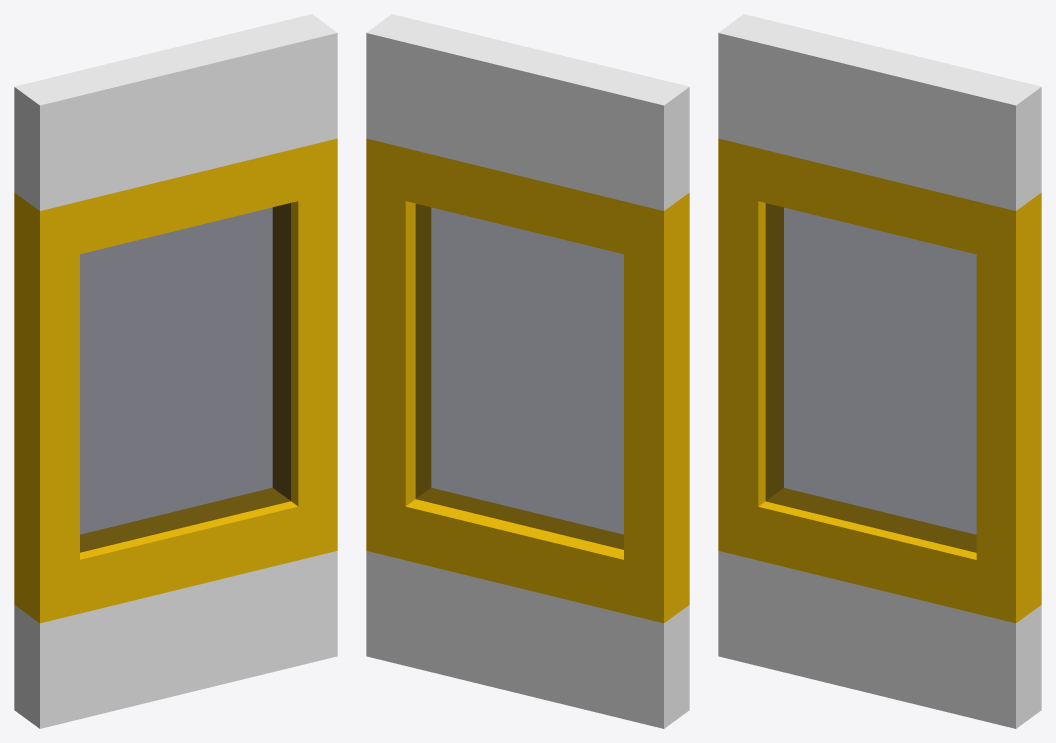
File: TwoColouredWindow.glb
The picture shows the model from 3 angles, left to right: view 1: azimuth 30°, elevation 25°; view 2: azimuth 150°, elevation 25°; view 3: azimuth 330°, elevation 25°; orthographic projection.
Parts seen in each view (by area): view 1: wall_twoCol_window; view 2: wall_twoCol_window; view 3: wall_twoCol_window.
Part boxes in pixels (left/top/right/bottom): wall_twoCol_window: left=14, top=14, right=337, bottom=728; wall_twoCol_window: left=366, top=14, right=689, bottom=728; wall_twoCol_window: left=718, top=14, right=1041, bottom=728.
Size of what is drawn, in the model's own units: 2 by 4 by 0.3.
2 materials, 2 textured.
